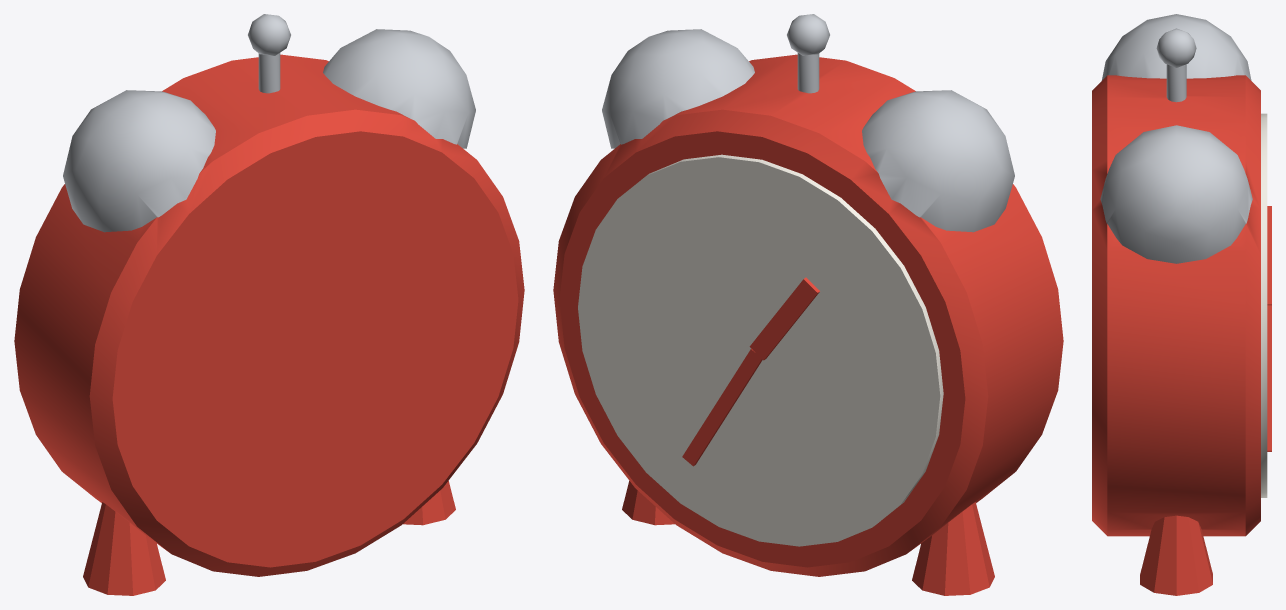
File: alarm_clock.glb
The picture shows the model from 3 angles, left to right: view 1: azimuth 30°, elevation 25°; view 2: azimuth 150°, elevation 25°; view 3: azimuth 270°, elevation 25°; orthographic projection. The views are drawn at different scales.
Visible parts, largest first — view 1: alarm_clock; view 2: alarm_clock; view 3: alarm_clock.
Boxes of the visible parts, box(x1,y1,x2,y2) form: alarm_clock: box(14, 14, 524, 595); alarm_clock: box(553, 14, 1063, 595); alarm_clock: box(1092, 14, 1271, 595).
Size of the model in its own units: 0.0776 by 0.09 by 0.0303.
